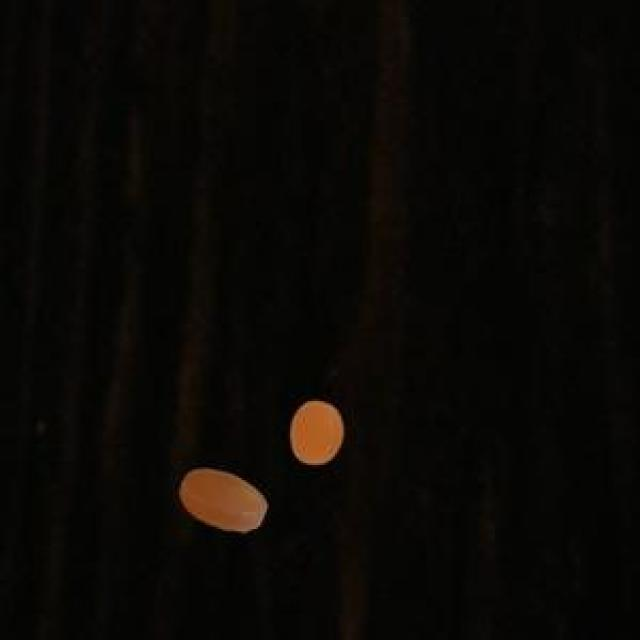Bactidol: (167, 450, 273, 544), (281, 386, 347, 477)
